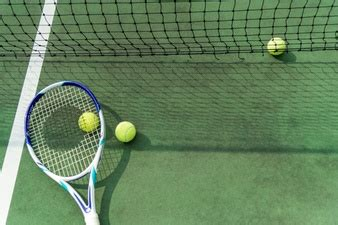tennis_ball: (78, 111, 99, 133), (115, 121, 136, 142), (267, 37, 286, 56)
